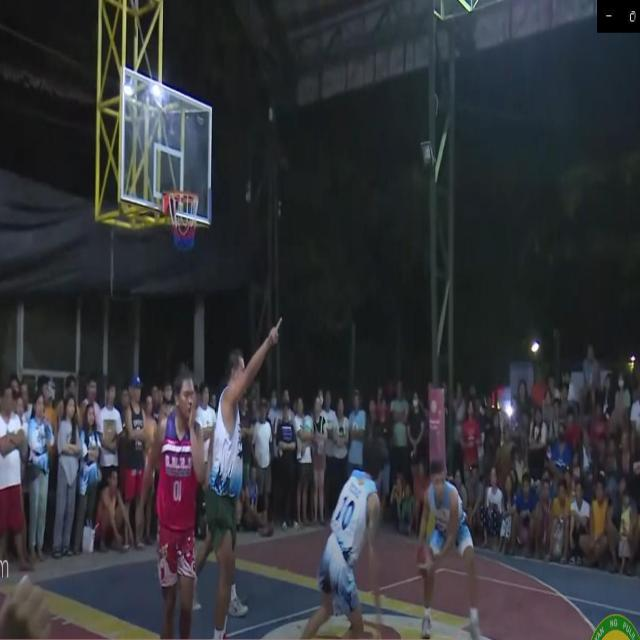basketball: (414, 540, 439, 584)
hoop: (163, 184, 203, 262)
